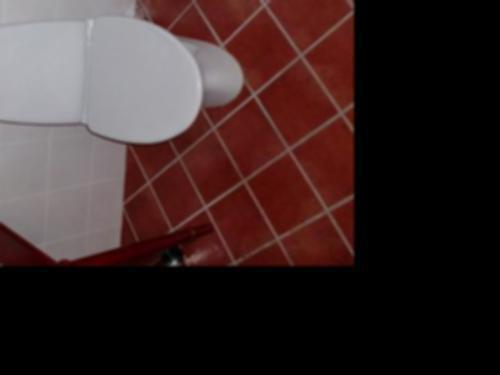Sanitario: (0, 13, 254, 154)
